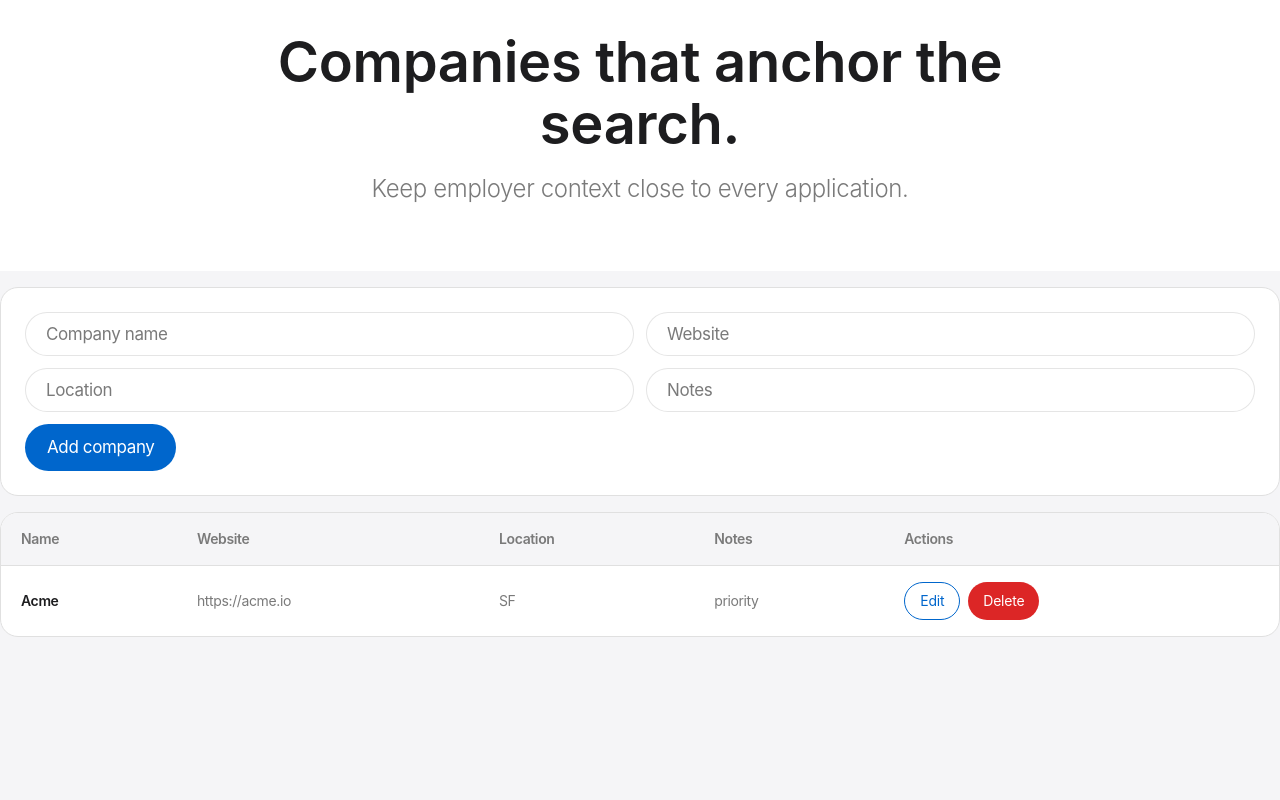
CompaniesPage › validates required create name
Expected: the text "Acme" is shown, [1,566,177,636]
Step 1. Click the button "Add company" → (101, 448), box [25,424,176,471]
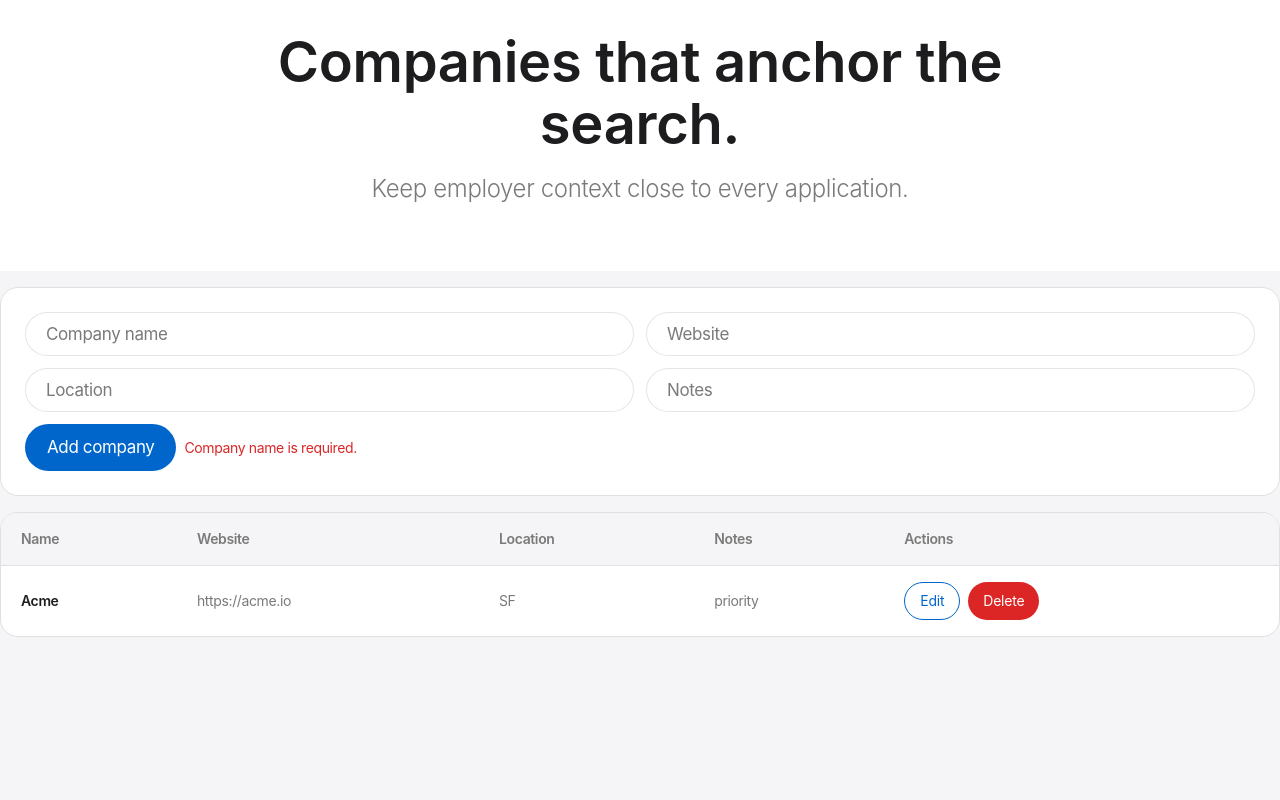
Result: the text "Company name is required." is shown at [184,438,357,458]
